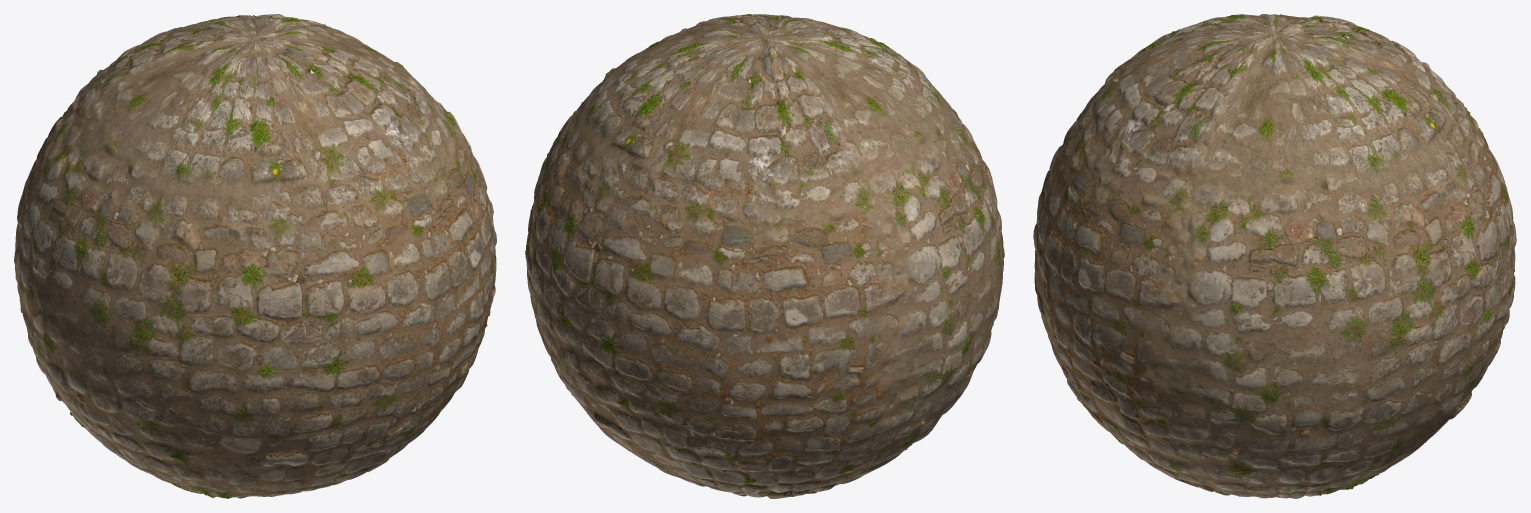
The model's file is cobblestone_large_01_1k.gltf.
The picture shows the model from 3 angles, left to right: view 1: azimuth 30°, elevation 25°; view 2: azimuth 150°, elevation 25°; view 3: azimuth 270°, elevation 25°; orthographic projection.
Parts seen in each view (by area): view 1: sphere_gltf; view 2: sphere_gltf; view 3: sphere_gltf.
Part boxes in pixels (<box>): sphere_gltf: <box>14,14,496,498</box>; sphere_gltf: <box>525,14,1004,498</box>; sphere_gltf: <box>1033,14,1516,498</box>.
Size of the model in its own units: 4.03 by 4.1 by 4.03.
